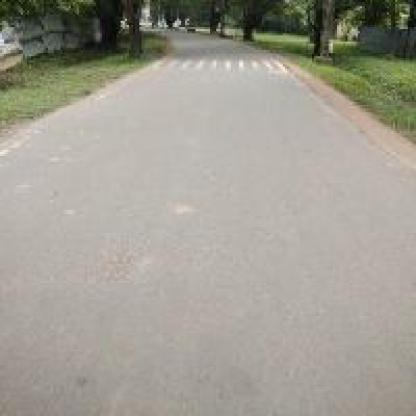Speed Bump: (150, 54, 289, 75)
